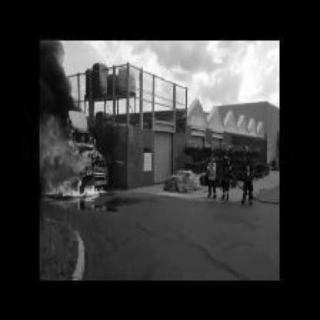Fire: (42, 111, 108, 201)
other: (187, 103, 267, 137)
